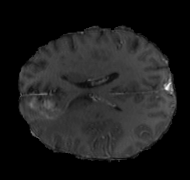Edema: (62, 104, 171, 160)
EnhancingTumors: (79, 138, 128, 162)
Necrosis: (79, 136, 127, 162)
